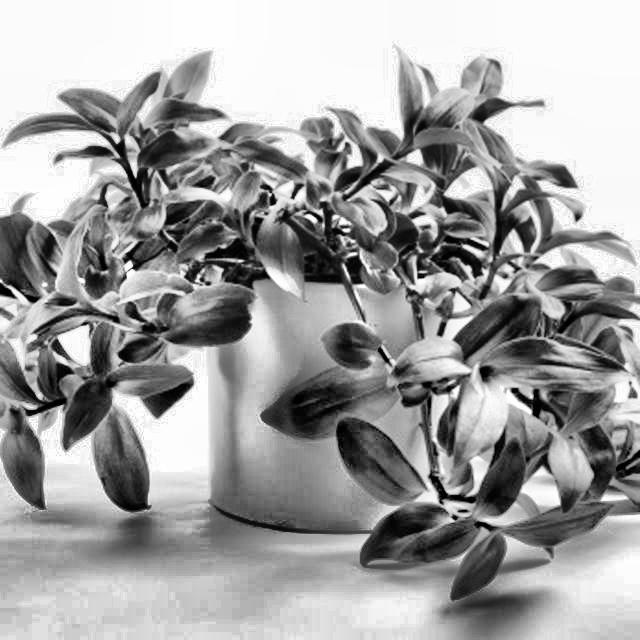plants: (2, 61, 640, 572)
